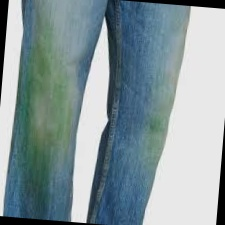earth: (18, 45, 72, 171), (142, 105, 165, 148)
